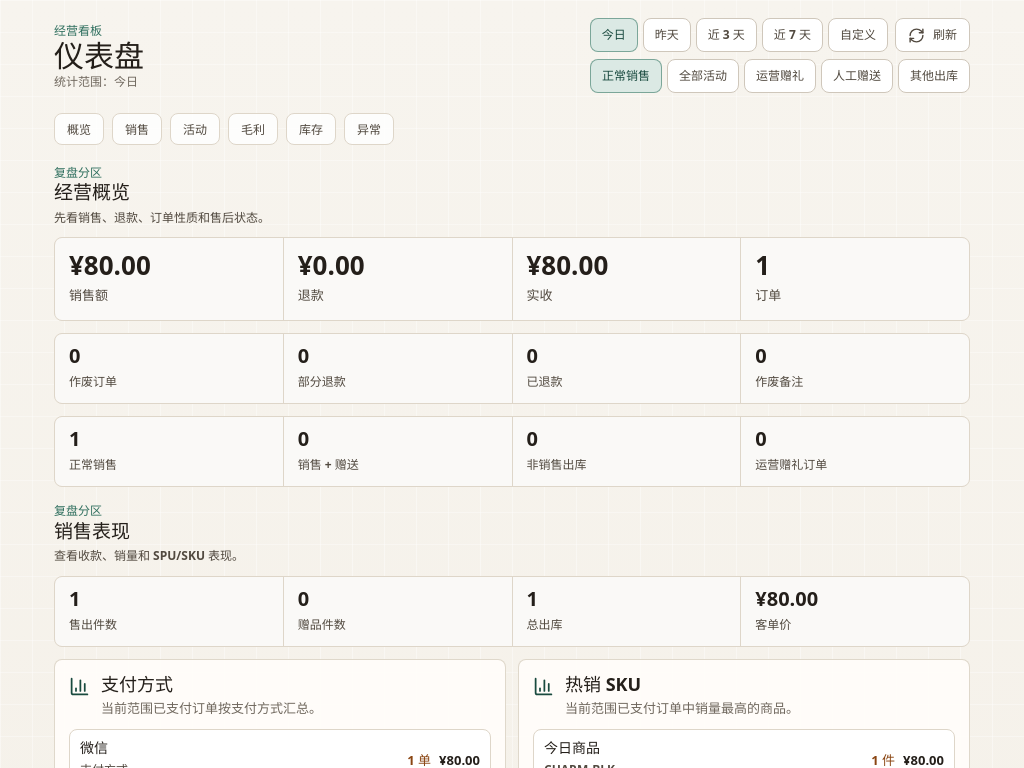
Test: defaults to today and switches to yesterday using already loaded data
This screenshot has width=1024, height=768.
Expected: the heading "今日商品" is shown, [544,738,600,757]
Expected: the text "统计范围：今日" is shown, [54,74,144,90]
Step 1. Click the button "昨天" → (667, 35), box [643,18,691,52]
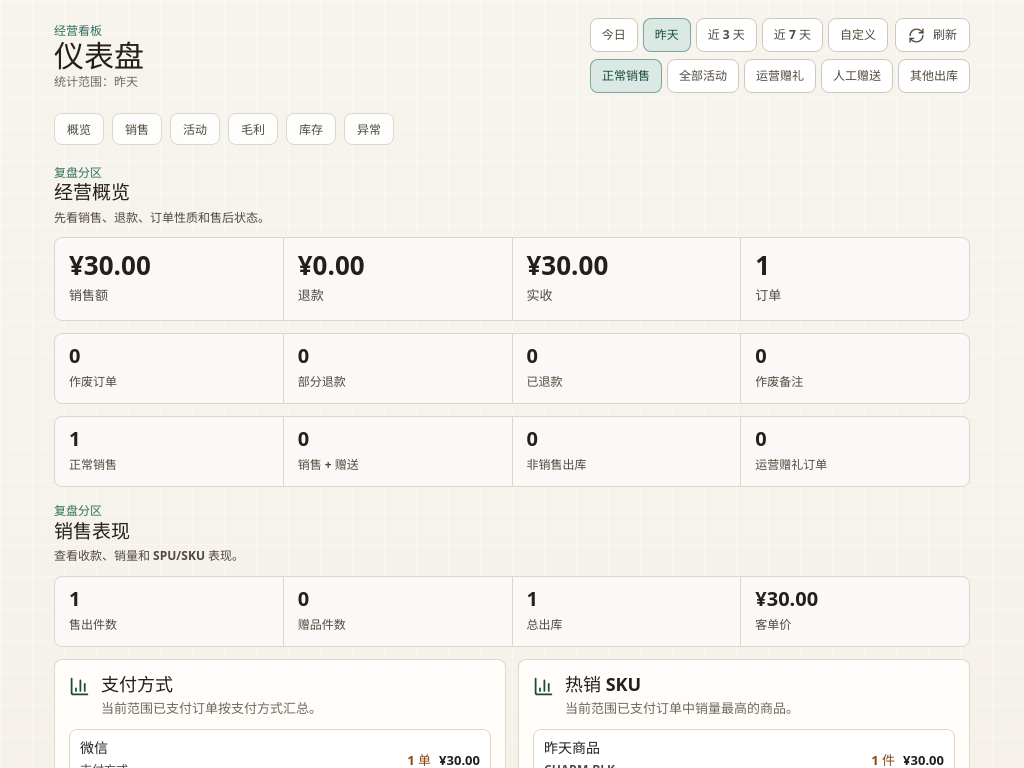
Now the text "统计范围：昨天" is shown, box [54,74,144,90]
Now the 1st text "¥30.00" is shown, box [69,247,151,283]
Now the heading "昨天商品" is shown, box [544,738,600,757]
